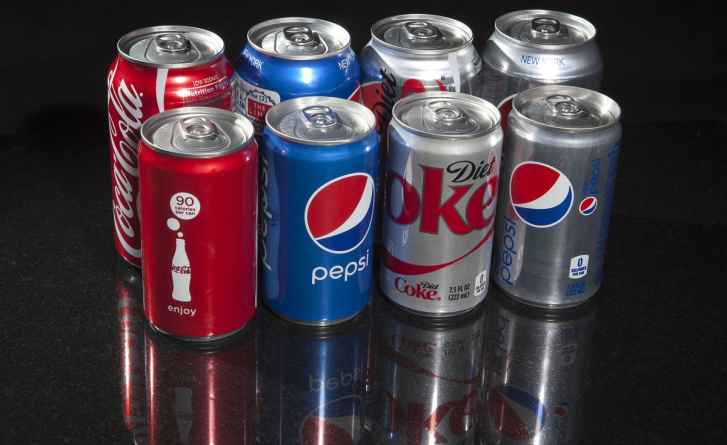coke: (107, 37, 232, 260), (138, 125, 260, 338)
